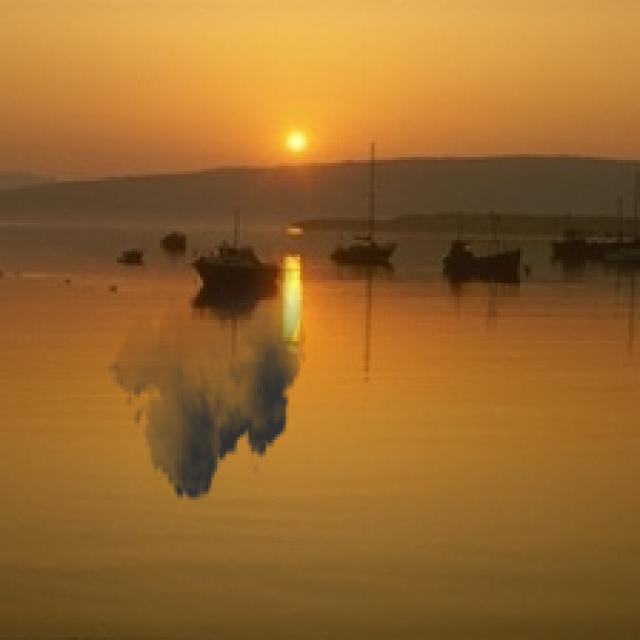smoke: (106, 240, 306, 511)
